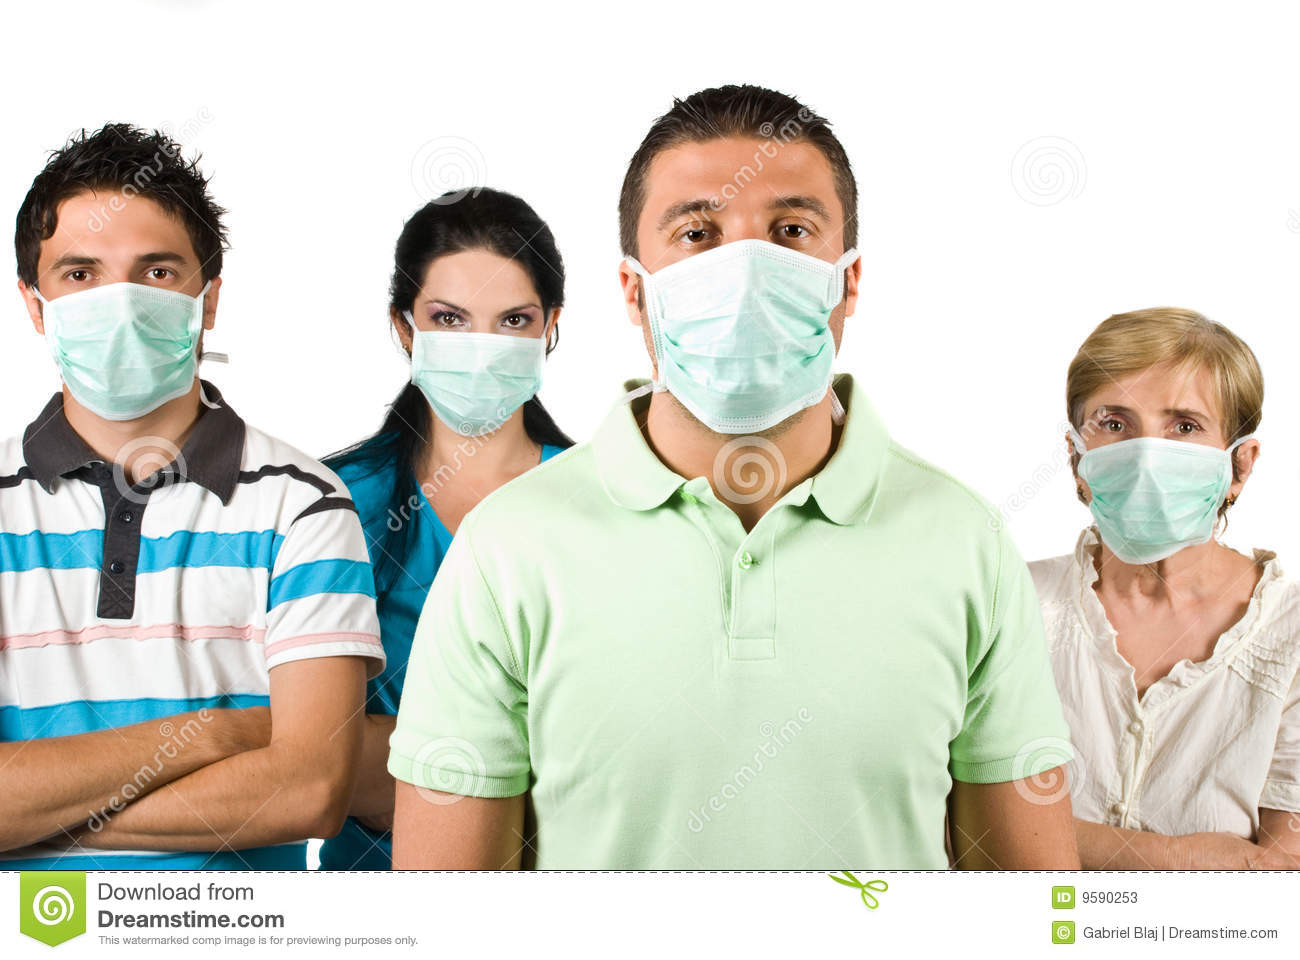mask: (646, 245, 840, 442), (45, 291, 214, 416), (1087, 442, 1227, 565), (411, 332, 542, 437)
